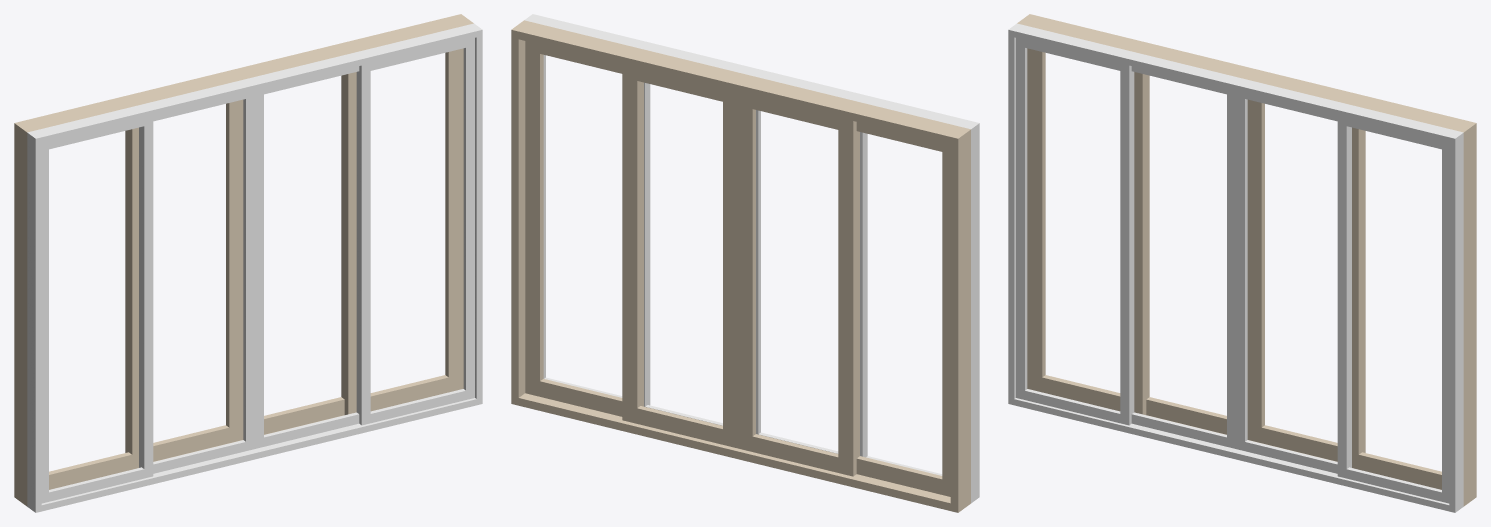
Rendered from windowDoubleSlide.glb.
3 renders of one model, left to right at view 1: azimuth 30°, elevation 25°; view 2: azimuth 150°, elevation 25°; view 3: azimuth 330°, elevation 25°, orthographic.
Parts seen in each view (by area): view 1: Material2, Material2.002; view 2: Material2.002, Material2; view 3: Material2, Material2.002.
Boxes of the visible parts, x1=… form: Material2: x1=27, y1=23, x2=482, y2=512; Material2.002: x1=14, y1=14, x2=473, y2=506; Material2.002: x1=511, y1=20, x2=970, y2=512; Material2: x1=524, y1=14, x2=979, y2=503; Material2: x1=1008, y1=23, x2=1463, y2=512; Material2.002: x1=1017, y1=14, x2=1476, y2=506.
Bounding box in the file's own units: 118 × 94.49 × 9.84.
